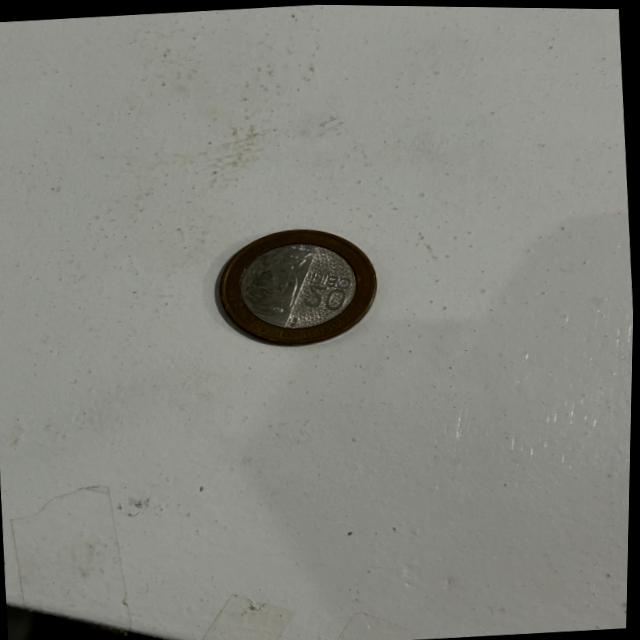20_New_Front: (291, 270, 357, 320)
